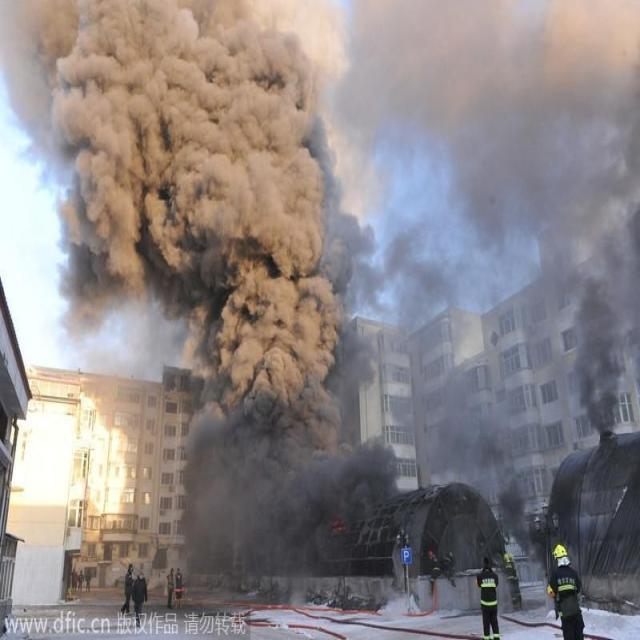Smoke: (0, 0, 402, 605), (349, 0, 640, 453), (385, 212, 535, 556)
